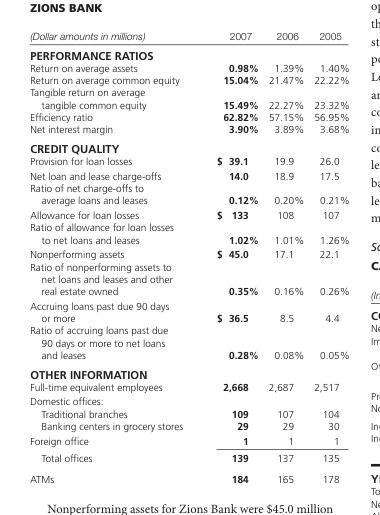table: (29, 29, 348, 484)
table column: (29, 29, 199, 484), (199, 29, 262, 484), (262, 29, 308, 484), (308, 29, 348, 484)
table column header: (29, 29, 348, 44)
table projected row header: (29, 44, 348, 61), (29, 363, 348, 380), (29, 138, 348, 154), (29, 393, 348, 407)
table row: (29, 323, 348, 363), (29, 260, 348, 298), (29, 181, 348, 207), (29, 220, 348, 246), (29, 85, 348, 110), (29, 298, 348, 323), (29, 448, 348, 467), (29, 44, 348, 61), (29, 363, 348, 380), (29, 467, 348, 484), (29, 122, 348, 138), (29, 138, 348, 154), (29, 432, 348, 448), (29, 29, 348, 44), (29, 154, 348, 168), (29, 246, 348, 260), (29, 393, 348, 407), (29, 168, 348, 181), (29, 207, 348, 220), (29, 380, 348, 393), (29, 419, 348, 432), (29, 61, 348, 73), (29, 73, 348, 85), (29, 110, 348, 122), (29, 407, 348, 419)
